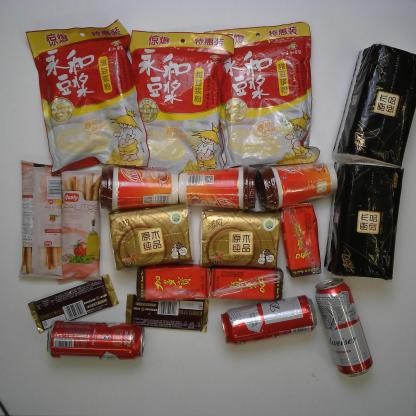Alcohol: (313, 276, 375, 380), (220, 293, 317, 345), (45, 319, 146, 361)
Chocolate: (27, 272, 121, 335), (124, 292, 211, 333)
Dessert: (14, 159, 65, 282), (56, 168, 104, 284)
Drink: (279, 202, 323, 278), (135, 263, 210, 300), (210, 266, 286, 302)
Instant Drink: (24, 17, 151, 176), (202, 19, 322, 169), (127, 28, 236, 173), (255, 160, 339, 212), (99, 163, 180, 213), (178, 163, 258, 213)
Tissue: (330, 40, 416, 167), (322, 162, 406, 283), (107, 202, 196, 272), (197, 207, 282, 270)
